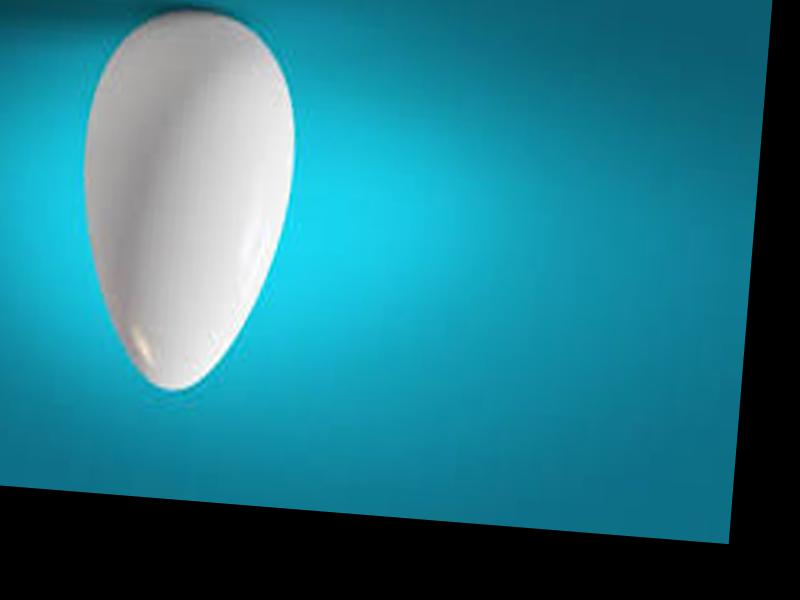Eggs: (64, 1, 306, 396)
